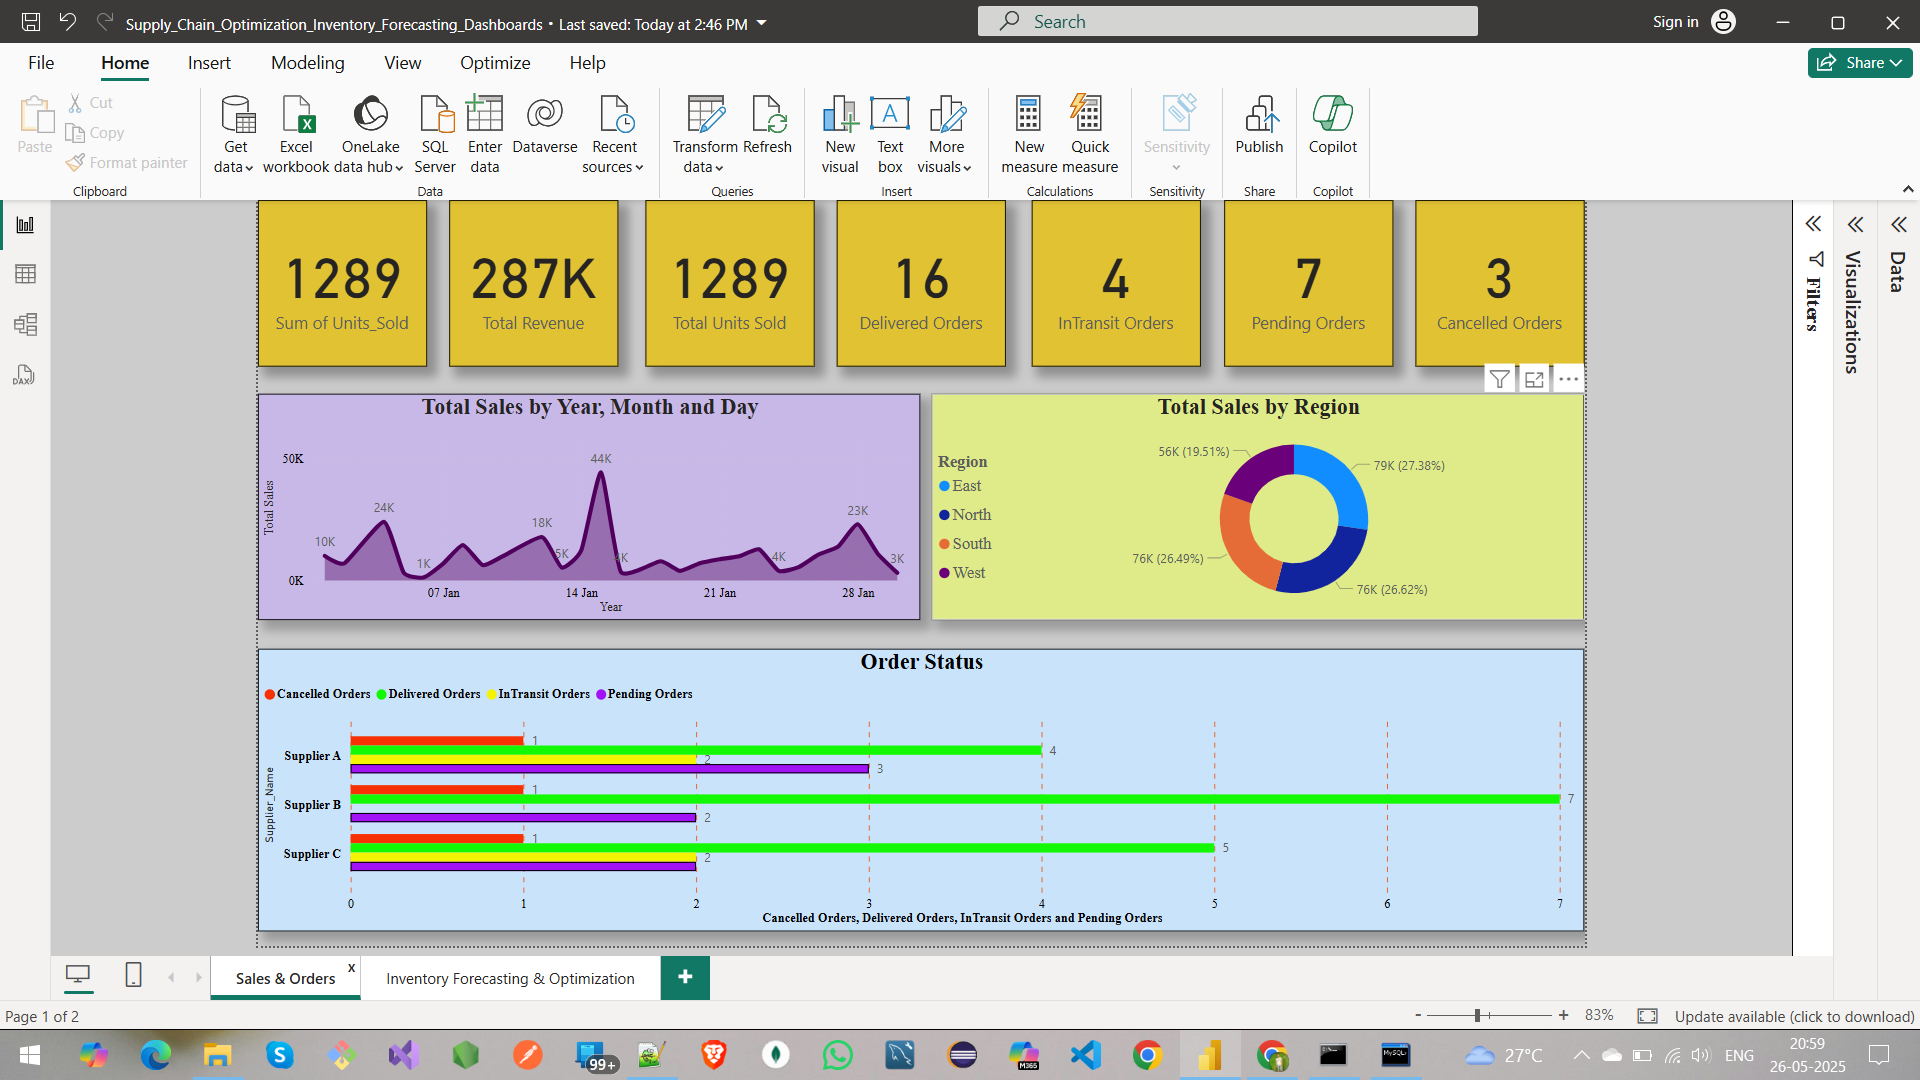

What the dashboard file says about the page in this screenshot:
{"tool":"powerbi","page":{"name":"Sales & Orders","canvas":[1280,720],"ordinal":0},"visuals":[{"type":"card","fields":{"Values":["SCO-Sales.Units_Sold"]},"box":[0,0,162.9,160.5],"z":0},{"type":"card","fields":{"Values":["SCO-Sales.Total Revenue"]},"box":[184.6,0,162.9,160.5],"z":1000},{"type":"card","fields":{"Values":["SCO-Sales.Total Units Sold"]},"box":[374,0,162.9,160.5],"z":2000},{"type":"card","fields":{"Values":["SCO-Orders.Pending Orders"]},"box":[932.6,0,162.9,160.5],"z":3000},{"type":"card","fields":{"Values":["SCO-Orders.Delivered Orders"]},"box":[558.6,0,162.9,160.5],"z":4000},{"type":"card","fields":{"Values":["SCO-Orders.InTransit Orders"]},"box":[746.8,0,162.9,160.5],"z":5000},{"type":"card","fields":{"Values":["SCO-Orders.Cancelled Orders"]},"box":[1117.2,0,162.9,160.5],"z":6000},{"type":"lineChart","fields":{"Y":["SCO-Sales.Total Sales"],"Category":["SCO-Sales.Date.Variation.Date Hierarchy.Year","SCO-Sales.Date.Variation.Date Hierarchy.Month","SCO-Sales.Date.Variation.Date Hierarchy.Day"]},"box":[0,187,639.4,218.4],"z":7000},{"type":"donutChart","fields":{"Category":["SCO-Sales.Region"],"Y":["SCO-Sales.Total Sales"]},"box":[650.3,187,629.8,218.4],"z":8000},{"type":"clusteredBarChart","title":"Order Status","fields":{"Category":["SCO-Orders.Supplier_Name"],"Y":["SCO-Orders.Cancelled Orders","SCO-Orders.Delivered Orders","SCO-Orders.InTransit Orders","SCO-Orders.Pending Orders"]},"box":[0,433.1,1280,272.7],"z":9000}]}

Visuals, with their boxes on the page's 1280x720 design canvas (x1, y1, x2, y2). These are canvas units, not pixel positions in the 1920x1080 screenshot, which may show the page scaled, cropped or inside an application window:
card - SCO-Sales.Units_Sold: x1=0 y1=0 x2=163 y2=160
card - SCO-Sales.Total Revenue: x1=185 y1=0 x2=348 y2=160
card - SCO-Sales.Total Units Sold: x1=374 y1=0 x2=537 y2=160
card - SCO-Orders.Pending Orders: x1=933 y1=0 x2=1096 y2=160
card - SCO-Orders.Delivered Orders: x1=559 y1=0 x2=722 y2=160
card - SCO-Orders.InTransit Orders: x1=747 y1=0 x2=910 y2=160
card - SCO-Orders.Cancelled Orders: x1=1117 y1=0 x2=1280 y2=160
lineChart - SCO-Sales.Total Sales x SCO-Sales.Date.Variation.Date Hierarchy.Year: x1=0 y1=187 x2=639 y2=405
donutChart - SCO-Sales.Region x SCO-Sales.Total Sales: x1=650 y1=187 x2=1280 y2=405
"Order Status" clusteredBarChart: x1=0 y1=433 x2=1280 y2=706
